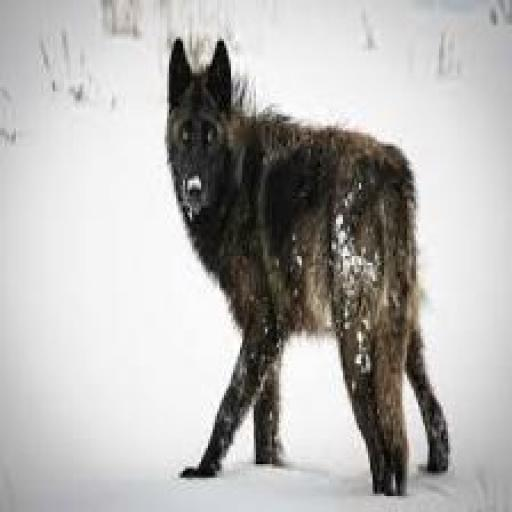wolf: (146, 27, 463, 511)
